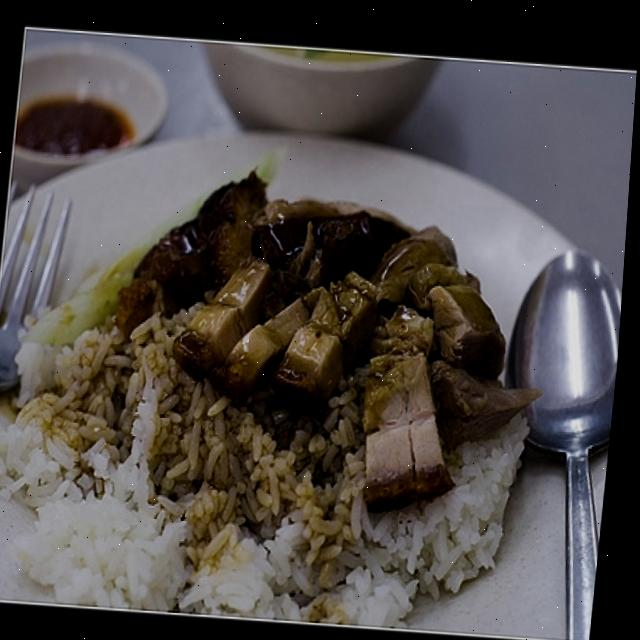米饭主食: (6, 133, 549, 619)
